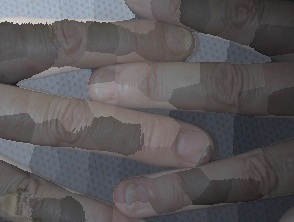Nail_psoriasis: (155, 20, 198, 59), (91, 66, 121, 106), (120, 181, 147, 215), (192, 141, 216, 171)
